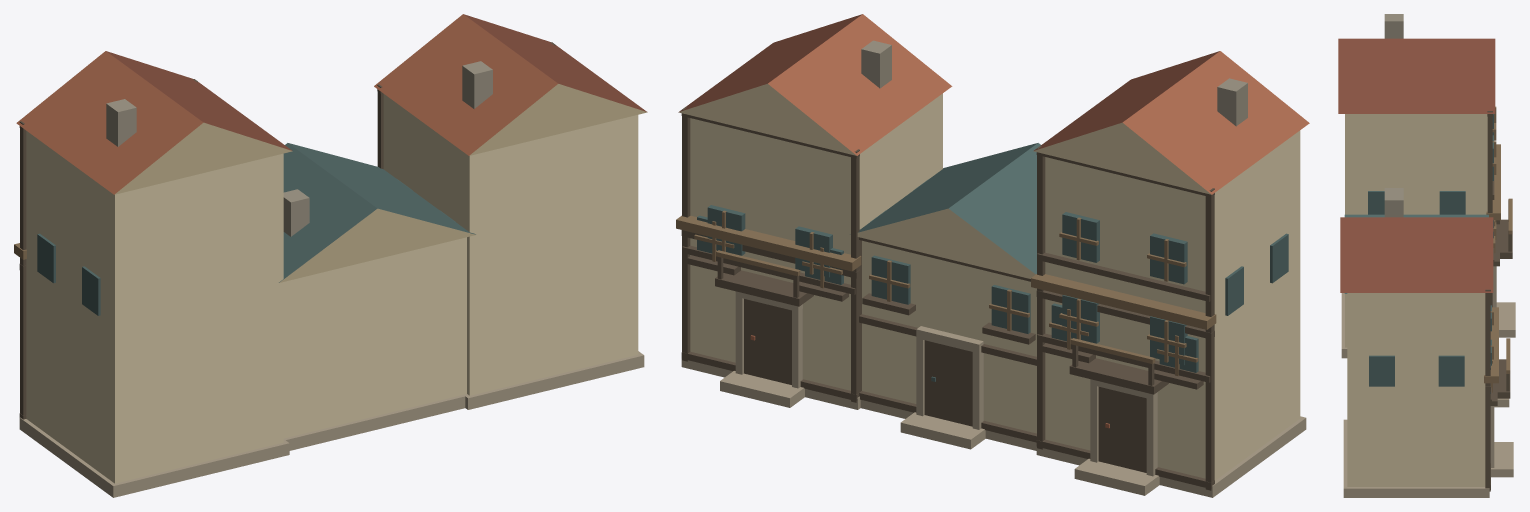
The model's file is Town_RowHousesB.fbx.
3 renders of one model, left to right at view 1: azimuth 30°, elevation 25°; view 2: azimuth 150°, elevation 25°; view 3: azimuth 270°, elevation 25°, orthographic. The views are drawn at different scales.
Visible parts, largest first — view 1: Town_RowHousesB; view 2: Town_RowHousesB; view 3: Town_RowHousesB.
Boxes of the visible parts, x1,y1,x2,y2 form: Town_RowHousesB: (14, 14, 647, 497); Town_RowHousesB: (676, 14, 1309, 497); Town_RowHousesB: (1338, 14, 1515, 497).
Bounding box in the file's own units: 11.42 × 7.31 × 4.09.
